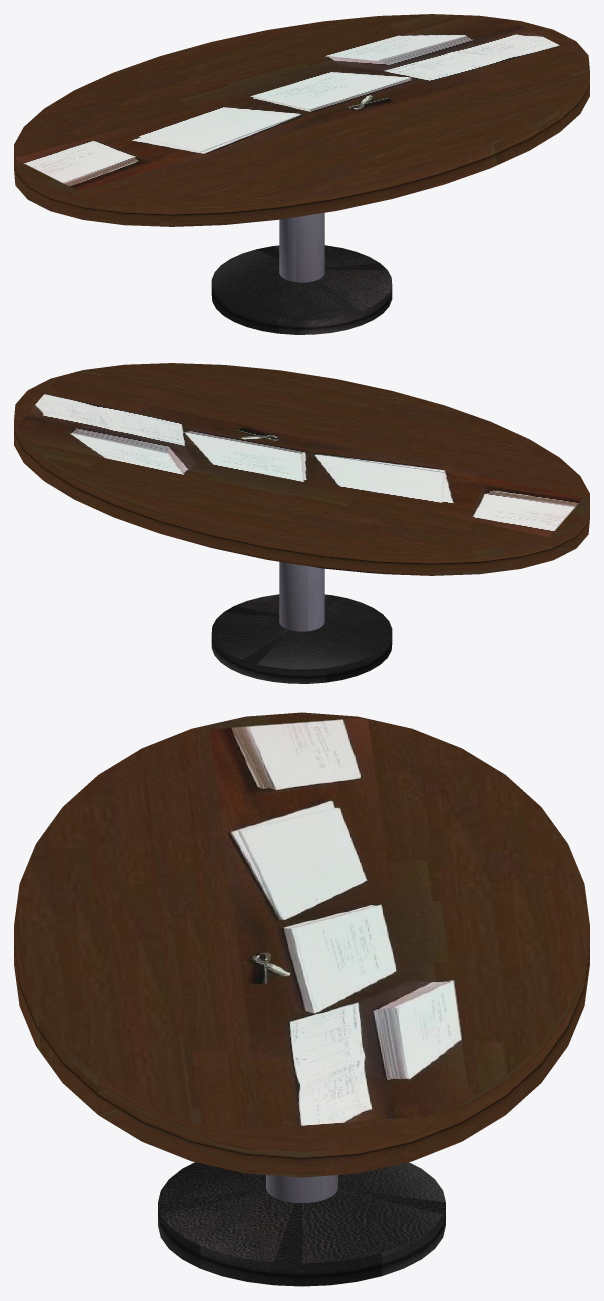
The model's file is taula_reunions.fbx.
3 views of the same model, one above another, from view 1: azimuth 30°, elevation 25°; view 2: azimuth 150°, elevation 25°; view 3: azimuth 270°, elevation 25° (orthographic). The views are drawn at different scales.
Visible parts, largest first — view 1: Cylinder, Cylinder_002, Cylinder_001; view 2: Cylinder, Cylinder_002, Cylinder_001; view 3: Cylinder, Cylinder_002, Cylinder_001.
Part boxes in pixels (x1,y1,x2,y2): Cylinder: (14,14,589,226); Cylinder_002: (211,245,392,334); Cylinder_001: (279,213,324,282); Cylinder: (14,363,589,575); Cylinder_002: (211,594,392,683); Cylinder_001: (279,562,324,631); Cylinder: (14,712,589,1177); Cylinder_002: (158,1162,445,1286); Cylinder_001: (266,1175,337,1202).
Bounding box in the file's own units: 7 × 2.3 × 4.
3 materials, 3 textured.
